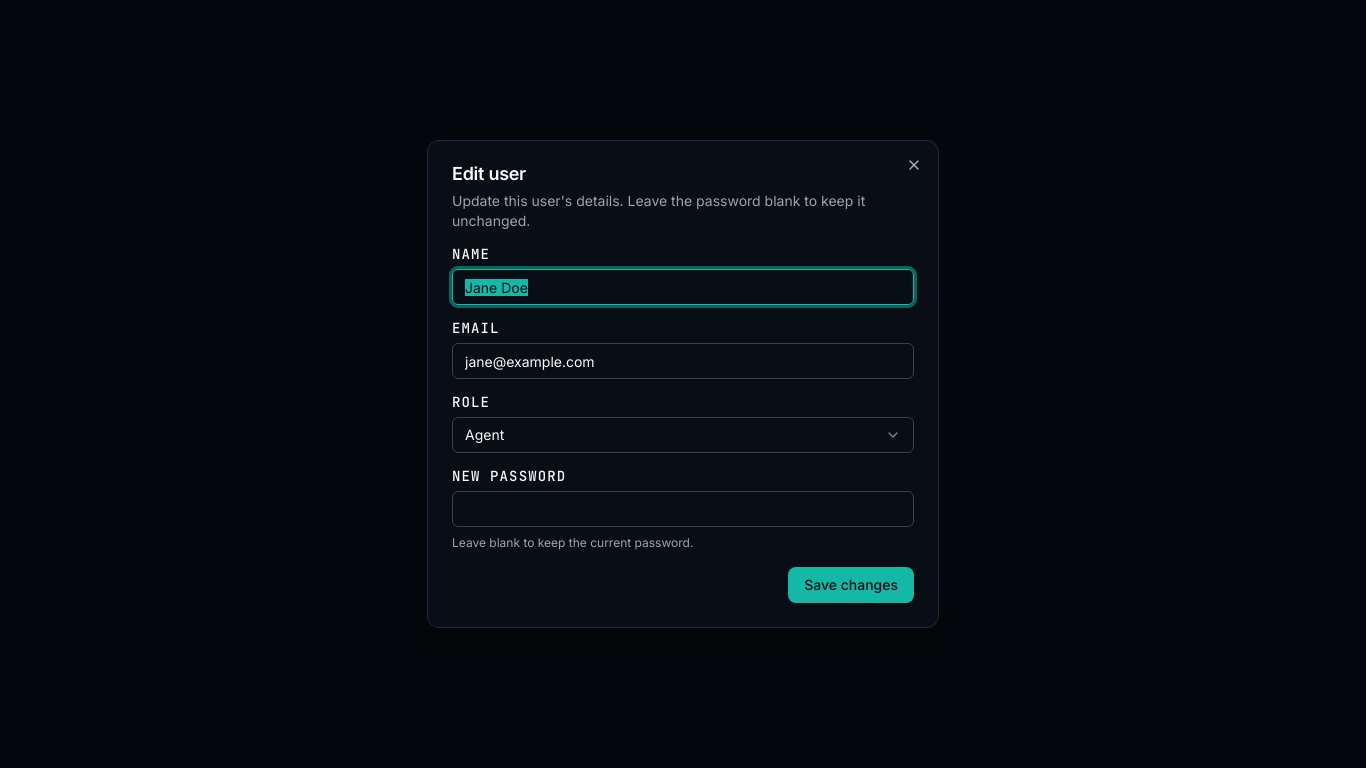
Scenario: UserFormDialog — edit mode › surfaces a server error and keeps the dialog open
Click the button "Save changes" at (851, 585), box [788,567,914,603]
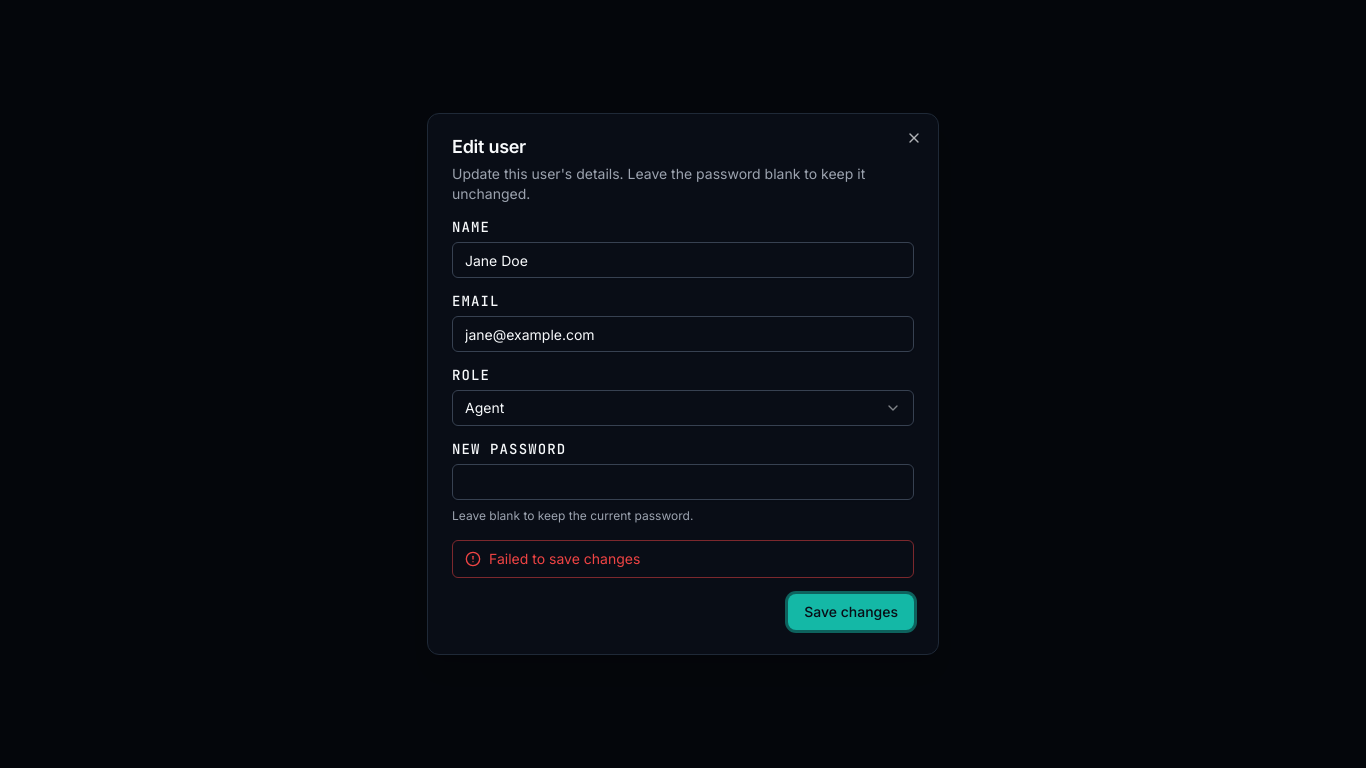
Expected: the message reads "Failed to save changes", [489,550,640,567]
